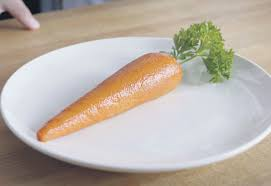carrot: (33, 54, 187, 150)
